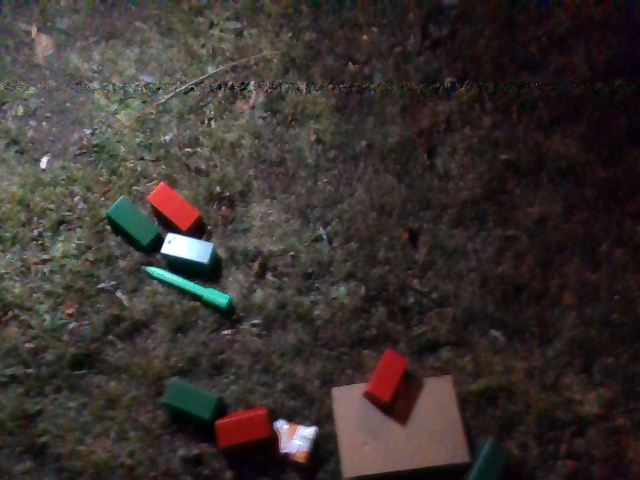Probe: (142, 257, 242, 311)
